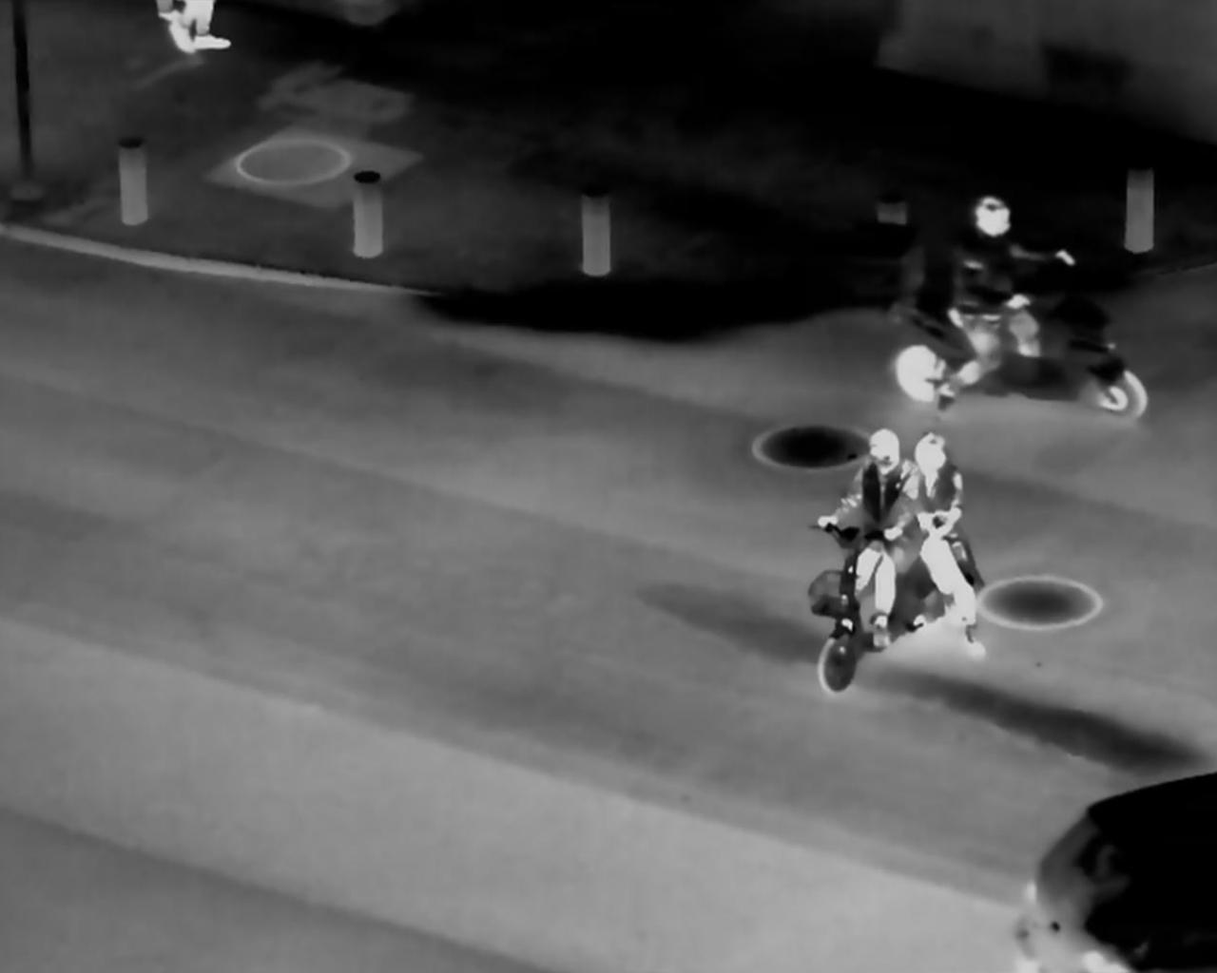person: (941, 165, 1058, 420), (813, 420, 921, 643), (906, 432, 1007, 665)
